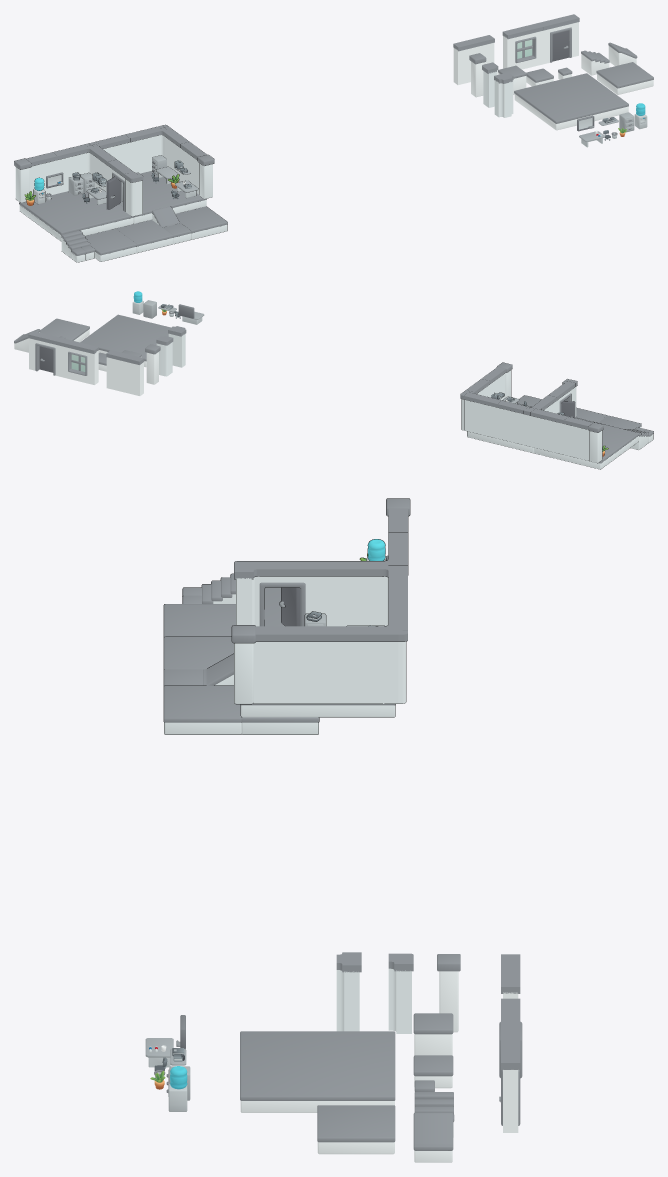
File: mini_toon__modular_office__free_demo.glb
3 views of the same model, one above another, from view 1: azimuth 30°, elevation 25°; view 2: azimuth 150°, elevation 25°; view 3: azimuth 270°, elevation 25° (orthographic). The views are drawn at different scales.
Visible parts, largest first — view 1: toon__office_tile_ground_low_4x4, toon_tilebase_ground_low_4x4.004, toon_tilebase_ground_low_4x4.003, toon_office_tile_wall_window, toon_office_tile_ground_low_2x2, toon_office_tile_wall, toon_tilebase_wall.006, toon_office_tile_wall_door, toon_tilebase_ground_low_2x2.002, toon_tilebase_ground_low_2x2.003, toon_tilebase_ground_low_2x2.004, toon_tilebase_wall.003 (+21 smaller); view 2: toon__office_tile_ground_low_4x4, toon_office_tile_wall, toon_office_tile_wall_window, toon_tilebase_ground_low_4x4.004, toon_tilebase_wall.006, toon_tilebase_wall.005, toon_tilebase_wall.003, toon_tilebase_wall.002, toon_office_tile_wall_door, toon_office_tile_ground_low_2x2, toon_office_tile_wallconnect, toon_office_tile_wallcorner (+11 smaller); view 3: toon__office_tile_ground_low_4x4, toon_tilebase_wall.007, toon_tilebase_wall.008, toon_tilebase_wall.004, toon_office_tile_ground_low_2x2, toon_tilebase_ground_low_2x2.004, toon_tilebase_wall_door.001, toon_tilebase_ground_low_2x2.002, toon_tilebase_ground_low_4x4.003, toon_tilebase_ground_low_2x2.003, toon_office_tile_ground_slope, toon_office_tile_wall_door (+9 smaller).
Part boxes in pixels (<box>): toon__office_tile_ground_low_4x4: <box>514,73,628,130</box>; toon_tilebase_ground_low_4x4.004: <box>19,191,134,241</box>; toon_tilebase_ground_low_4x4.003: <box>119,171,206,223</box>; toon_office_tile_wall_window: <box>502,23,542,69</box>; toon_office_tile_ground_low_2x2: <box>596,62,653,94</box>; toon_office_tile_wall: <box>453,35,494,84</box>; toon_tilebase_wall.006: <box>125,125,166,173</box>; toon_office_tile_wall_door: <box>538,14,579,64</box>; toon_tilebase_ground_low_2x2.002: <box>85,228,136,261</box>; toon_tilebase_ground_low_2x2.003: <box>116,220,173,253</box>; toon_tilebase_ground_low_2x2.004: <box>175,206,227,239</box>; toon_tilebase_wall.003: <box>53,143,93,193</box>; toon__office_tile_ground_low_4x4: <box>80,314,170,367</box>; toon_office_tile_wall: <box>106,350,144,395</box>; toon_office_tile_wall_window: <box>60,339,98,384</box>; toon_tilebase_ground_low_4x4.004: <box>534,417,639,469</box>; toon_tilebase_wall.006: <box>463,392,501,438</box>; toon_tilebase_wall.005: <box>497,400,535,446</box>; toon_tilebase_wall.003: <box>530,408,568,454</box>; toon_tilebase_wall.002: <box>564,417,592,461</box>; toon_office_tile_wall_door: <box>28,331,66,376</box>; toon_office_tile_ground_low_2x2: <box>40,318,89,342</box>; toon_office_tile_wallconnect: <box>168,326,186,367</box>; toon_office_tile_wallcorner: <box>156,336,173,376</box>; toon__office_tile_ground_low_4x4: <box>240,1031,395,1112</box>; toon_tilebase_wall.007: <box>321,626,398,703</box>; toon_tilebase_wall.008: <box>253,626,320,703</box>; toon_tilebase_wall.004: <box>321,561,398,626</box>; toon_office_tile_ground_low_2x2: <box>317,1105,395,1154</box>; toon_tilebase_ground_low_2x2.004: <box>163,685,241,734</box>; toon_tilebase_wall_door.001: <box>244,561,320,626</box>; toon_tilebase_ground_low_2x2.002: <box>163,604,235,637</box>; toon_tilebase_ground_low_4x4.003: <box>240,704,395,717</box>; toon_tilebase_ground_low_2x2.003: <box>163,636,233,669</box>; toon_office_tile_ground_slope: <box>413,1112,453,1162</box>; toon_office_tile_wall_door: <box>501,1030,520,1132</box>.
Size of the model in its own units: 34.36 by 3.04 by 9.76.
Materials: 2 (1 with a texture image).
